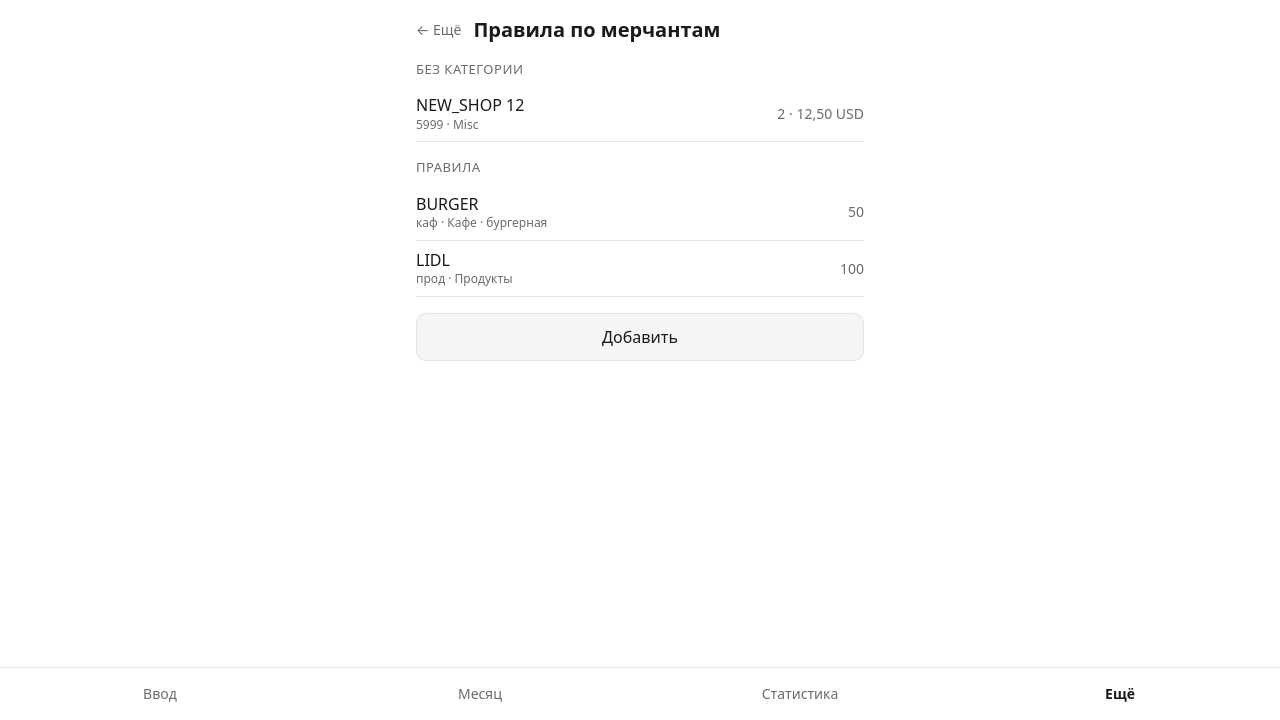
Test: RulesScreen › тап по мерчанту заполняет шаблон без подстановочных знаков; сохранение с p_id null
Click the button "NEW_SHOP 12 5999 · Misc 2 · 12,50 USD" at (470, 105), box [416,86,864,142]
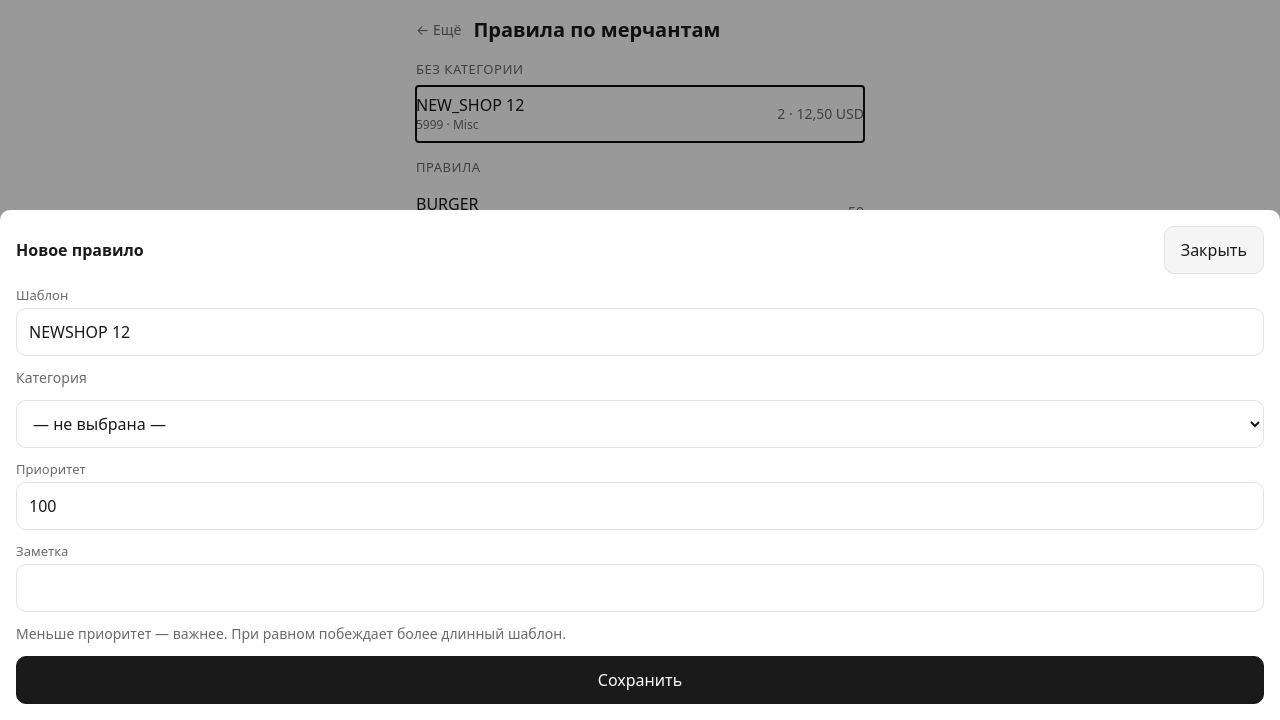
Check: the field labelled "Шаблон" holds "NEWSHOP 12", box [16,308,1264,356]
Select "каф · Кафе" in the dropdown labelled "Категория" at (640, 424), box [16,400,1264,448]
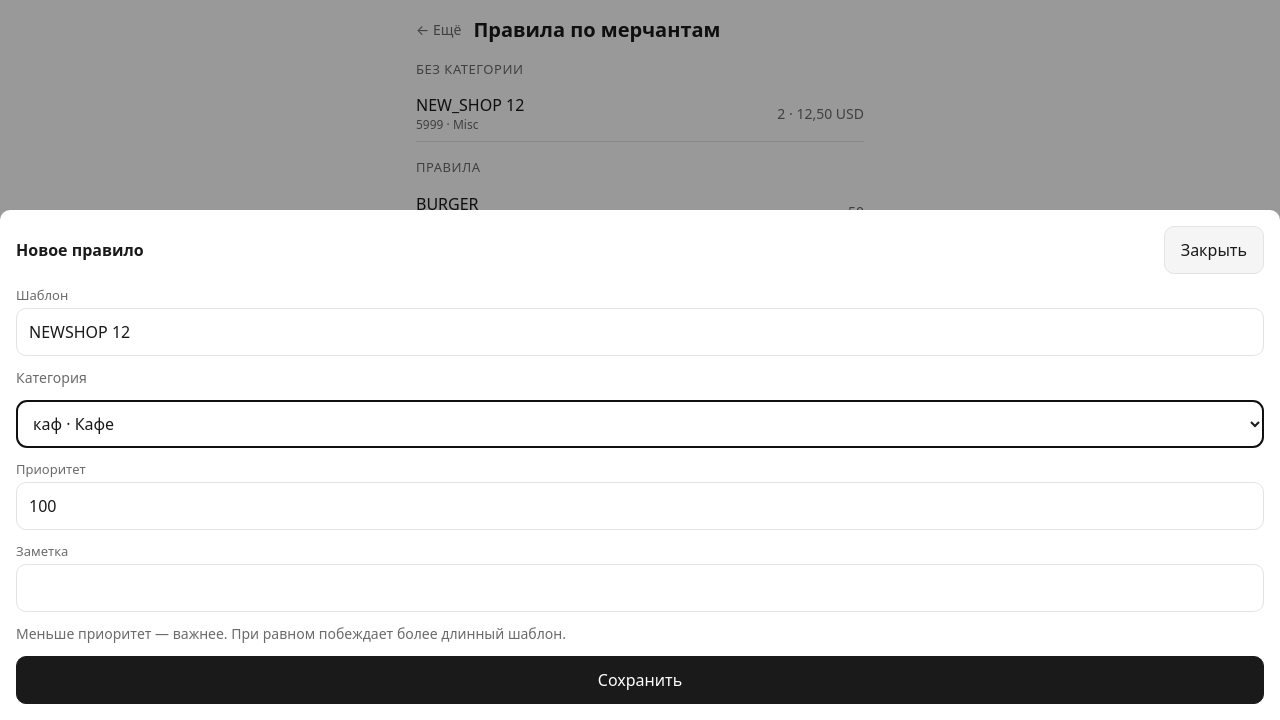
Click the button "Сохранить" at (640, 680), box [16,656,1264,704]
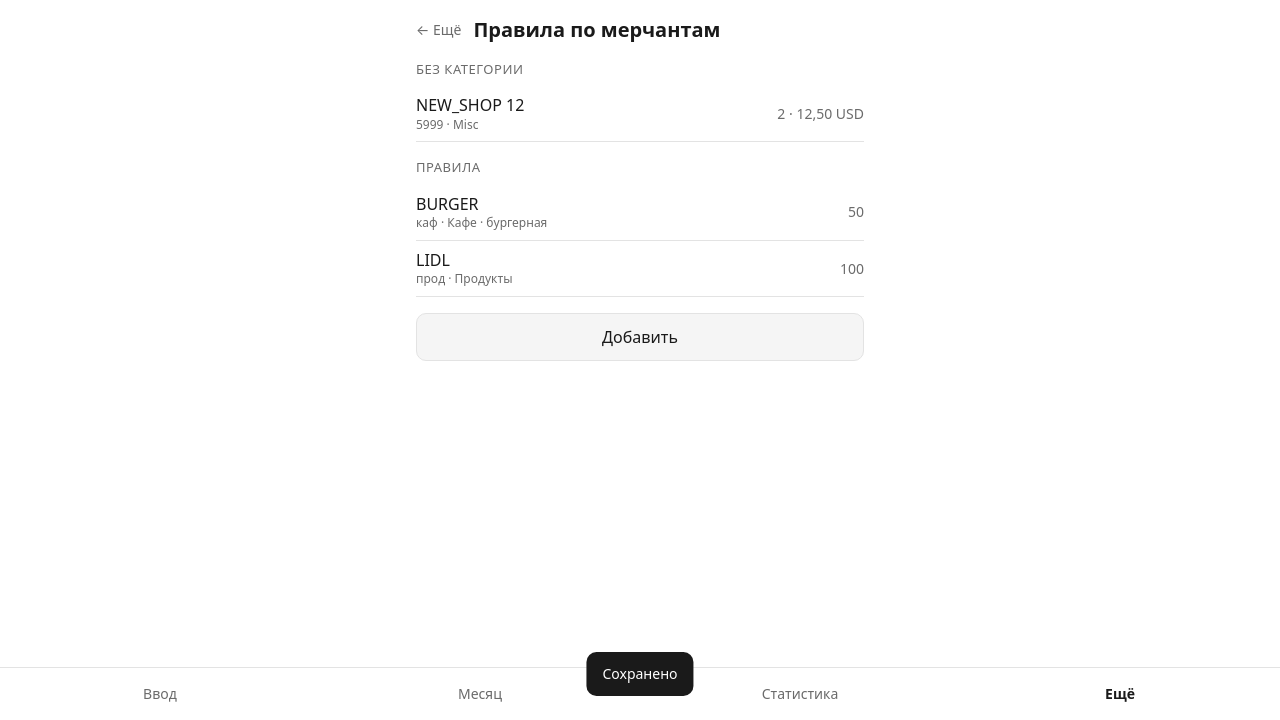
Check: the message reads "Сохранено", box [602,664,678,683]
